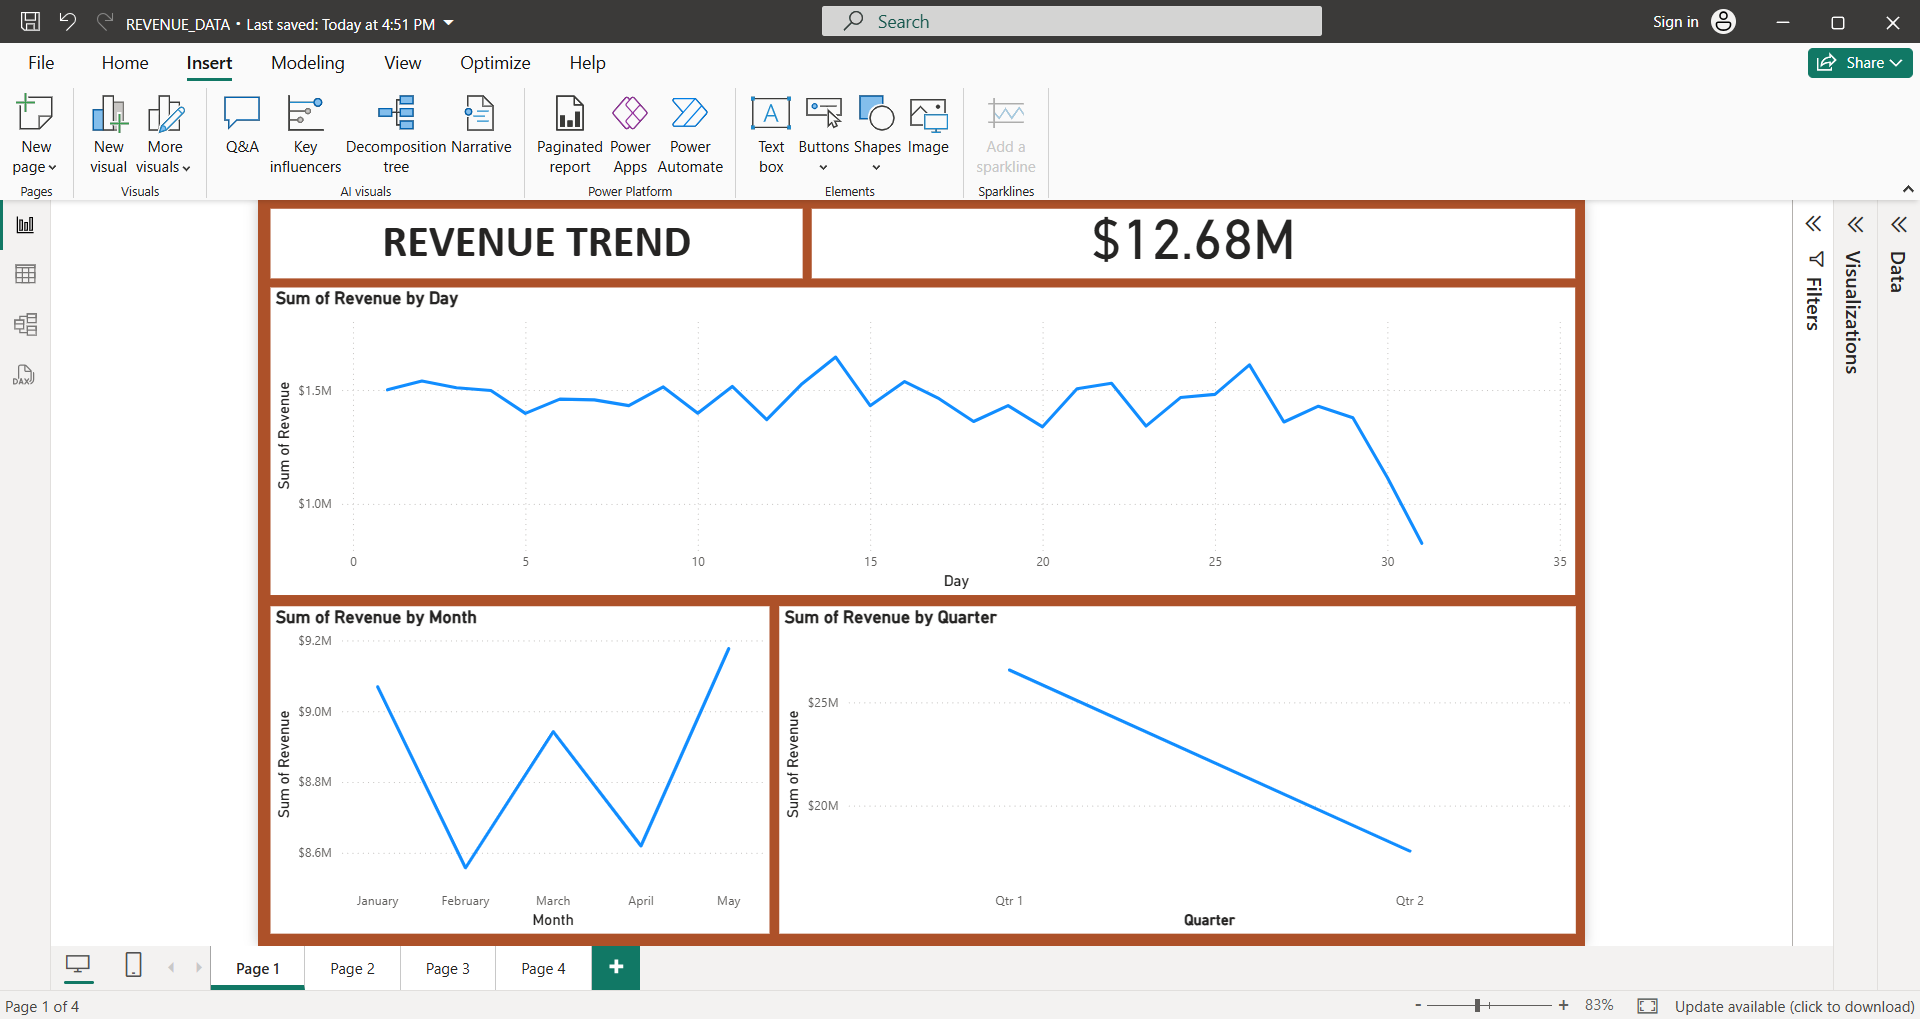

Layout of this report page (visuals, bound fields, positions):
{"tool":"powerbi","page":{"name":"Page 1","canvas":[1280,720],"ordinal":0},"visuals":[{"type":"lineChart","fields":{"Y":["Sum(Sales table.Revenue)"],"Category":["Sales table.Sales Date.Variation.Date Hierarchy.Month"]},"box":[12.1,392.1,481.4,316.1],"z":0},{"type":"lineChart","fields":{"Y":["Sum(Sales table.Revenue)"],"Category":["Sales table.Sales Date.Variation.Date Hierarchy.Day"]},"box":[12.1,84.5,1259.5,296.8],"z":1000},{"type":"textbox","box":[12.1,8.4,513.9,67.6],"z":2000},{"type":"card","fields":{"Values":["Sum(Sales table.Profit)"]},"box":[534.5,8.4,737.1,67.6],"z":3000},{"type":"lineChart","fields":{"Y":["Sum(Sales table.Revenue)"],"Category":["Sales table.Sales Date.Variation.Date Hierarchy.Quarter"]},"box":[503.1,392.1,768.5,316.1],"z":4000}]}

Visuals, with their boxes on the page's 1280x720 design canvas (x1, y1, x2, y2). These are canvas units, not pixel positions in the 1920x1019 screenshot, which may show the page scaled, cropped or inside an application window:
lineChart - Sum(Sales table.Revenue) x Sales table.Sales Date.Variation.Date Hierarchy.Month: box(12, 392, 494, 708)
lineChart - Sum(Sales table.Revenue) x Sales table.Sales Date.Variation.Date Hierarchy.Day: box(12, 84, 1272, 381)
textbox: box(12, 8, 526, 76)
card - Sum(Sales table.Profit): box(534, 8, 1272, 76)
lineChart - Sum(Sales table.Revenue) x Sales table.Sales Date.Variation.Date Hierarchy.Quarter: box(503, 392, 1272, 708)
